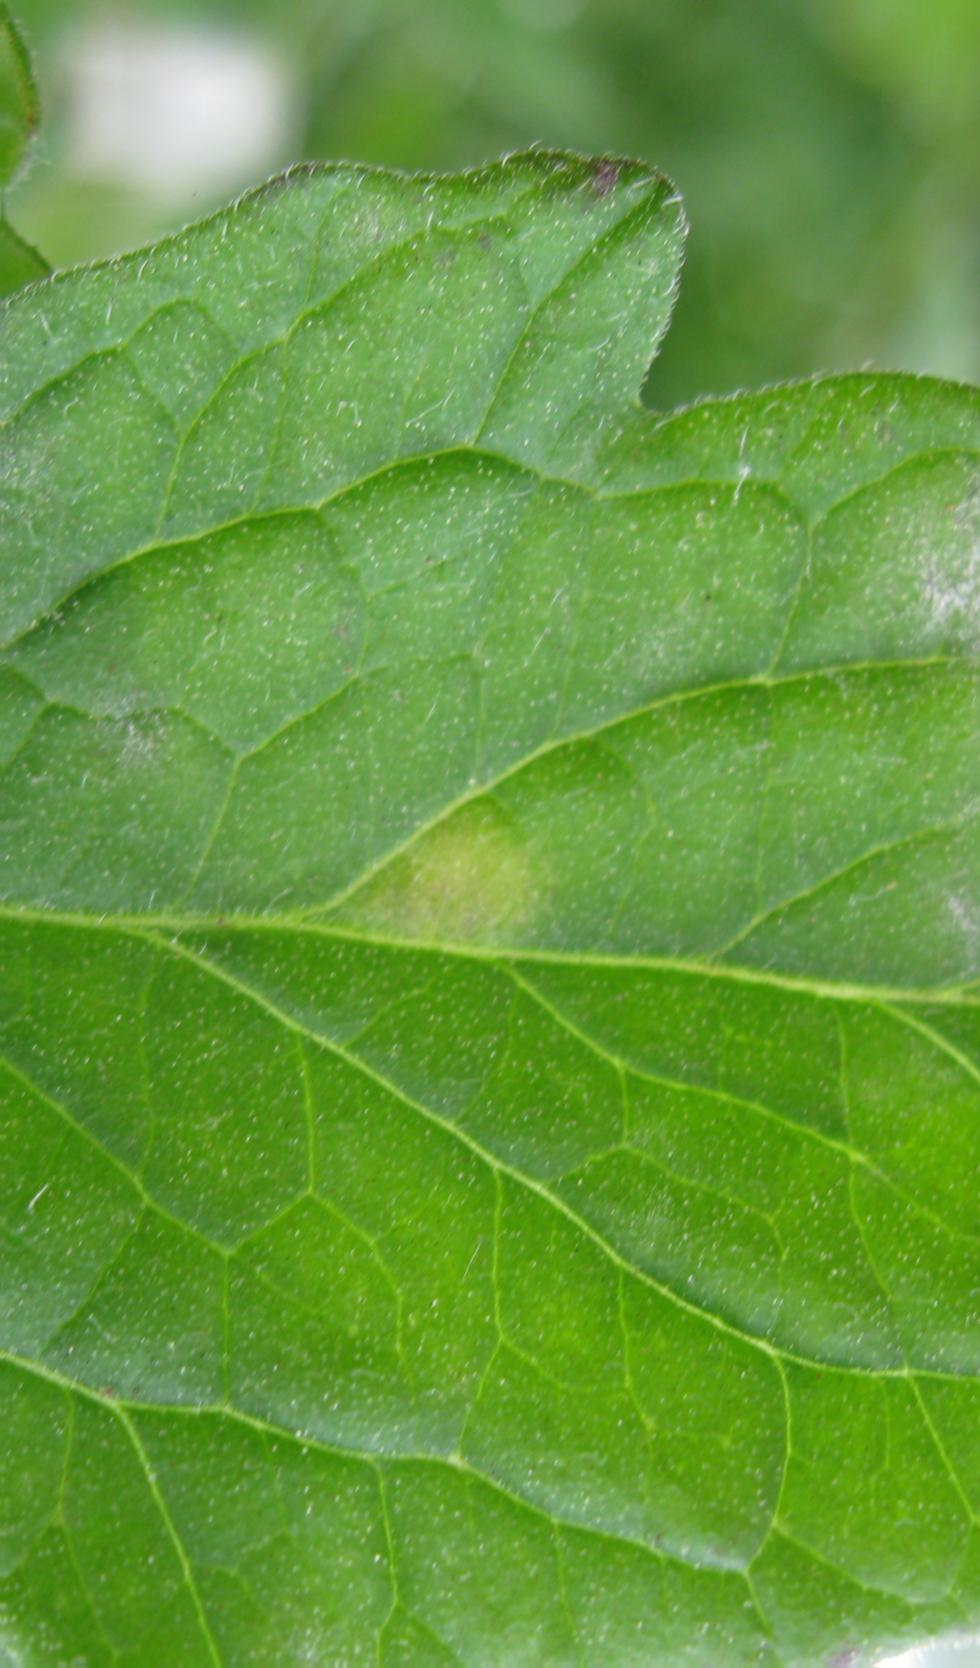Tomato mold leaf: (0, 58, 980, 1668)
